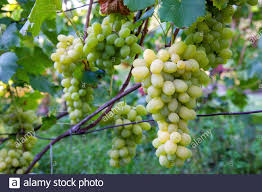grapes: (139, 52, 205, 165), (53, 35, 90, 121), (99, 103, 144, 168), (91, 23, 138, 68)
